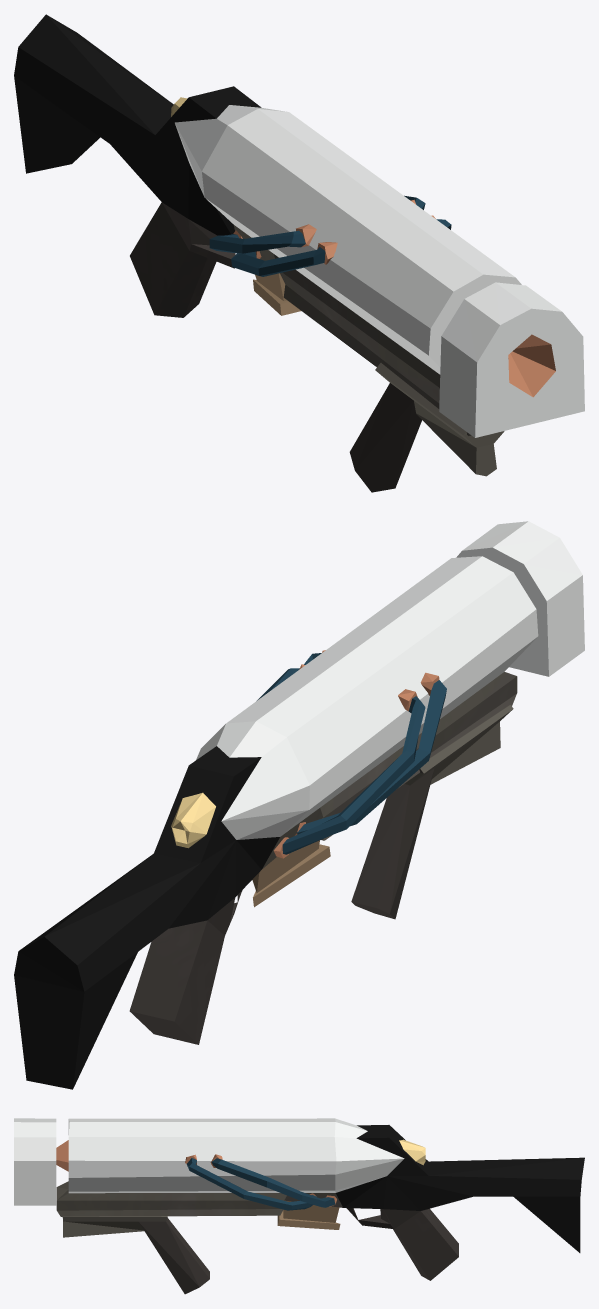
The model's file is shotgun.obj.
The picture shows the model from 3 angles, top to bottom: view 1: azimuth 30°, elevation 25°; view 2: azimuth 150°, elevation 25°; view 3: azimuth 270°, elevation 25°; orthographic projection. The views are drawn at different scales.
Parts seen in each view (by area): view 1: Cube.002, Cube.002_Cube.001; view 2: Cube.002, Cube.002_Cube.001; view 3: Cube.002, Cube.002_Cube.001.
Boxes of the visible parts, left/top/right/bottom form: Cube.002: left=14, top=14, right=584, bottom=437; Cube.002_Cube.001: left=349, top=363, right=504, bottom=492; Cube.002: left=14, top=521, right=584, bottom=1089; Cube.002_Cube.001: left=351, top=705, right=513, bottom=919; Cube.002: left=14, top=1118, right=584, bottom=1280; Cube.002_Cube.001: left=62, top=1216, right=209, bottom=1294.
Bounding box in the file's own units: 0.724 × 1.19 × 3.63.
Materials: 11 (11 with a texture image).
